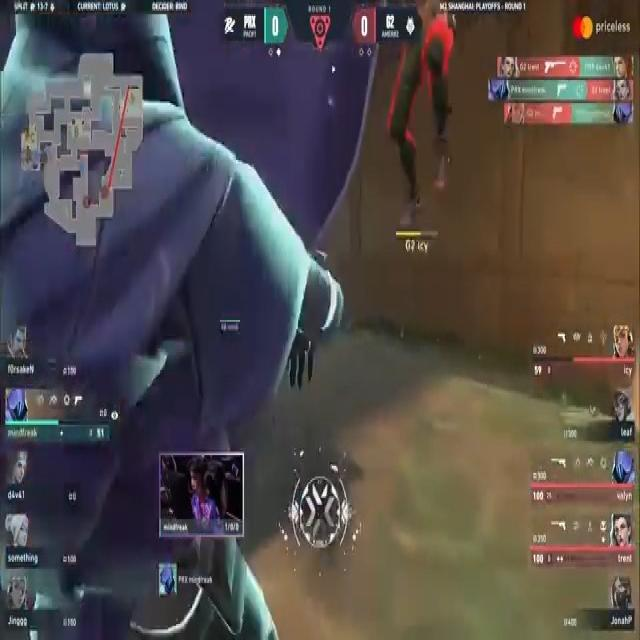enemy: (388, 0, 453, 230)
